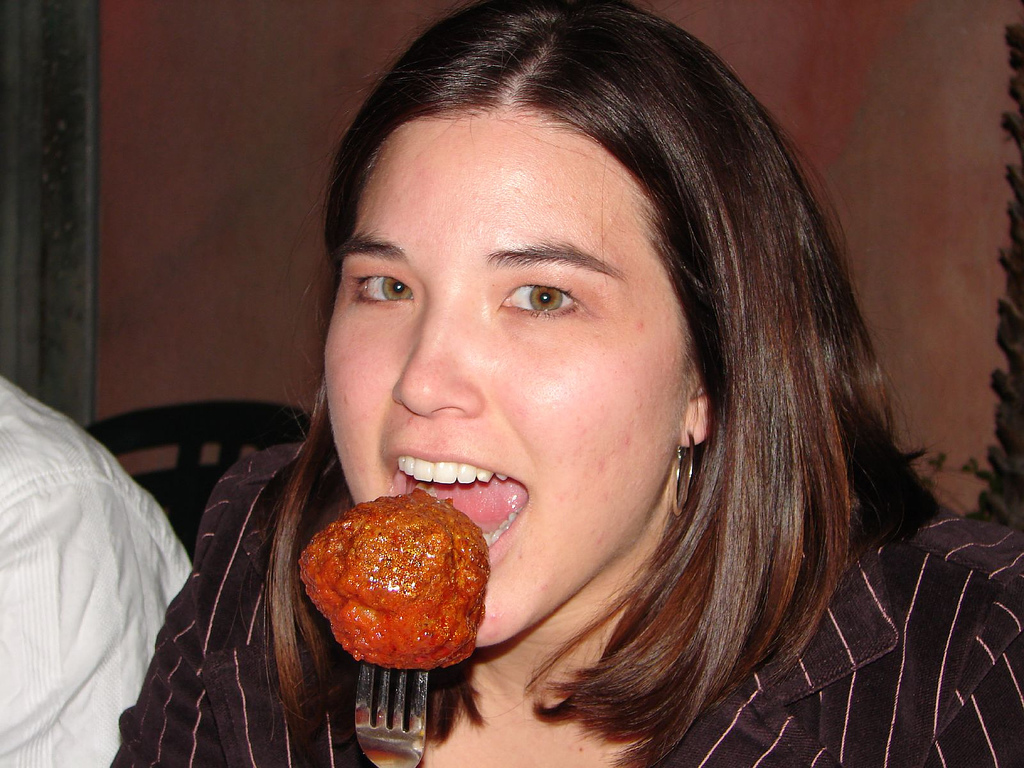meatballs: (297, 508, 503, 666)
